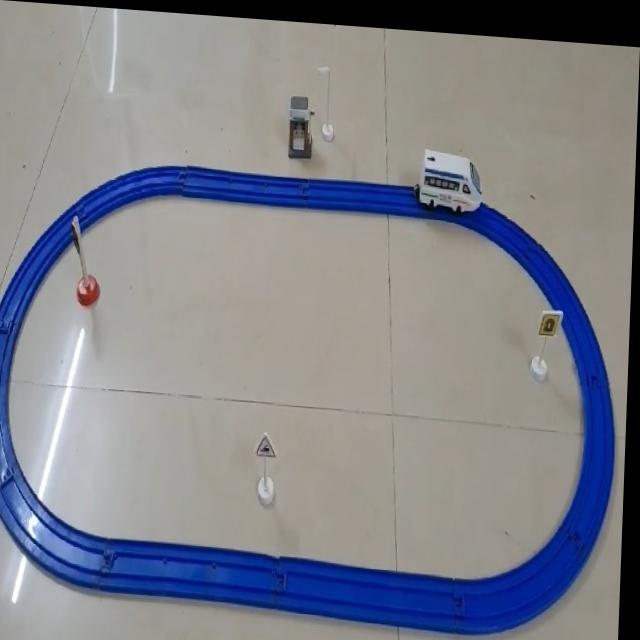bus: (417, 140, 486, 209)
